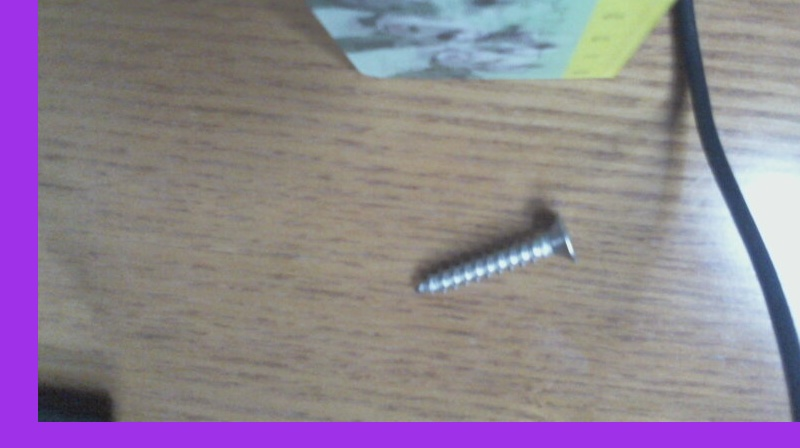S001: (412, 208, 579, 297)
